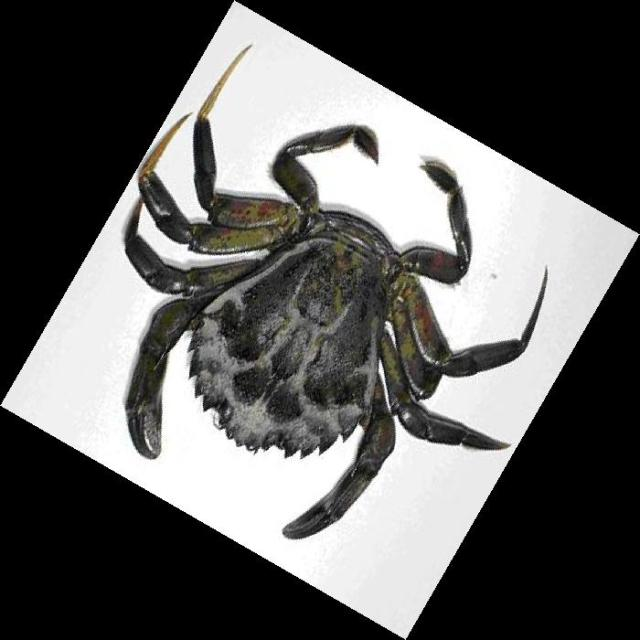European Green crab: (123, 46, 548, 539)
